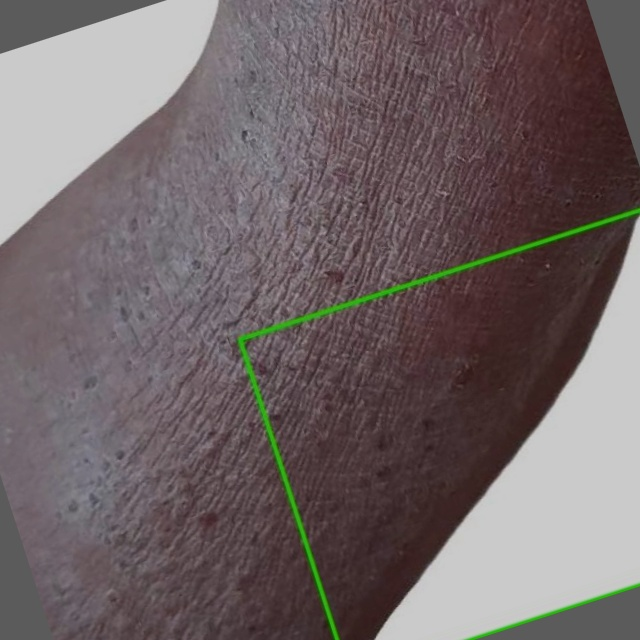Contact Dermatitis: (239, 210, 639, 639)
